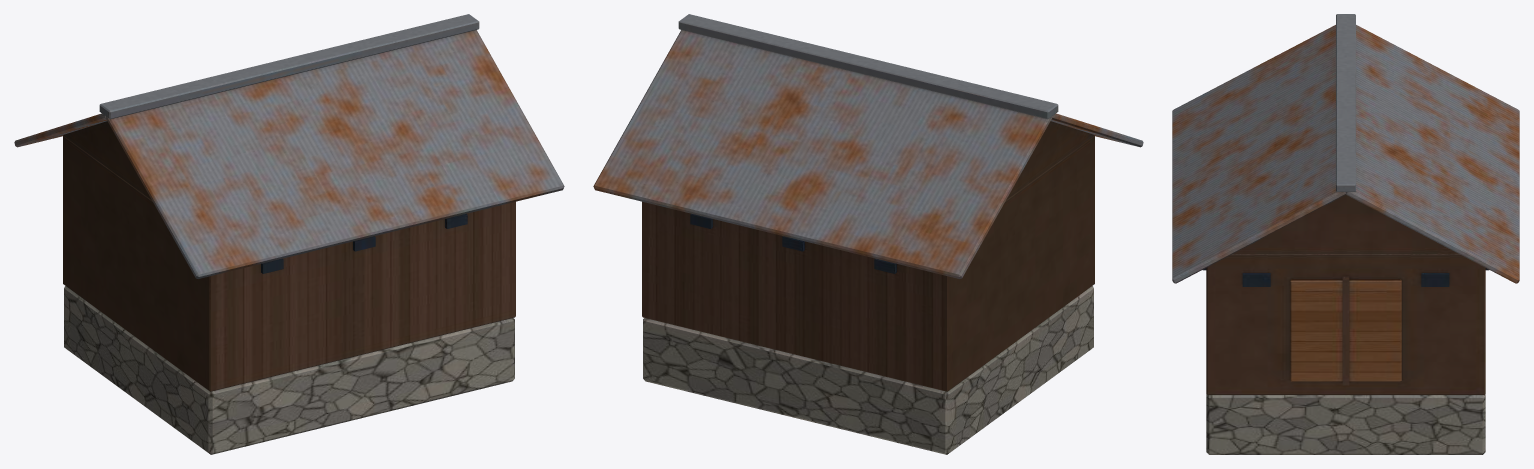
Rendered from prop_barn.glb.
3 renders of one model, left to right at view 1: azimuth 30°, elevation 25°; view 2: azimuth 150°, elevation 25°; view 3: azimuth 270°, elevation 25°, orthographic. The views are drawn at different scales.
Visible parts, largest first — view 1: Barn.001; view 2: Barn.001; view 3: Barn.001.
Part boxes in pixels (x1,y1,x2,y2): Barn.001: [14, 14, 564, 454]; Barn.001: [593, 14, 1143, 454]; Barn.001: [1172, 14, 1519, 454].
Bounding box in the file's own units: 7.25 × 5.66 × 6.23.
1 material, 1 textured.
